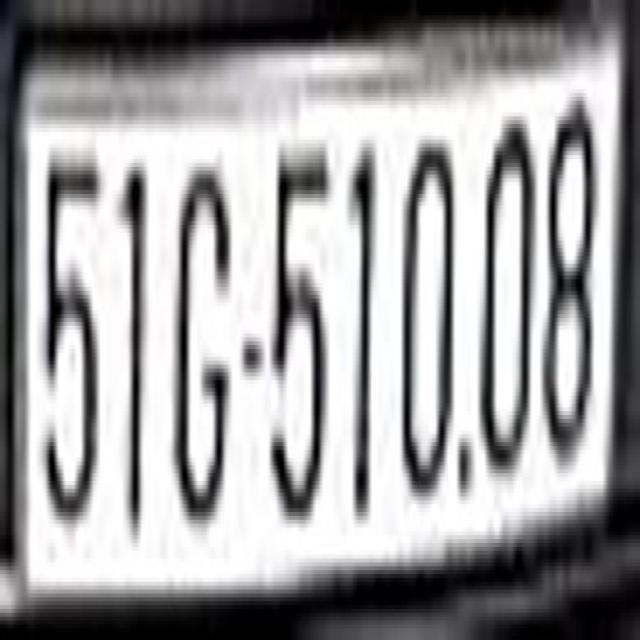0: (398, 120, 456, 516), (480, 97, 533, 489)
1: (114, 147, 150, 551), (345, 128, 380, 531)
5: (272, 128, 328, 559), (44, 144, 104, 543)
8: (545, 93, 595, 466)
G: (173, 132, 232, 527)
